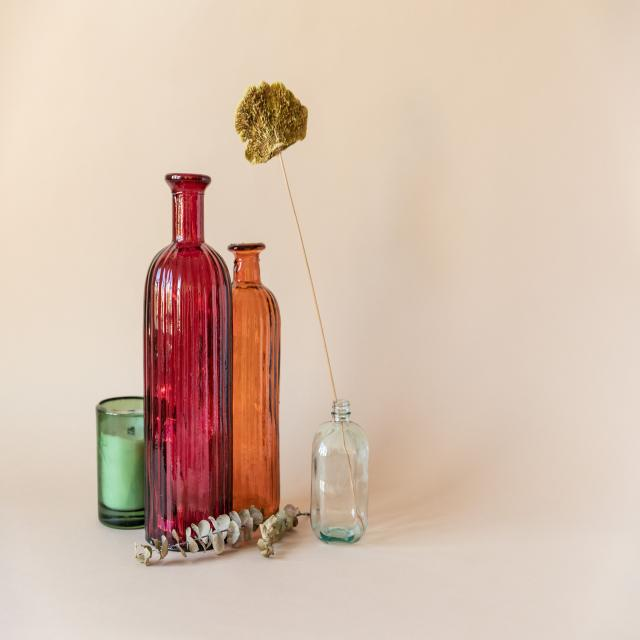Bottle: (145, 175, 232, 543), (229, 244, 280, 516), (311, 400, 368, 543)
